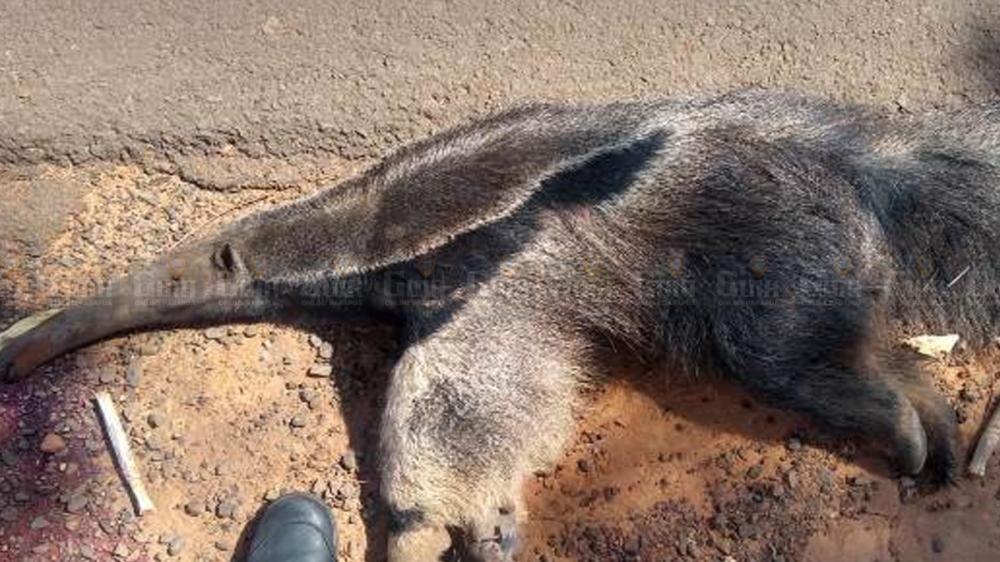TamanduaBandeira: (5, 80, 991, 534)
